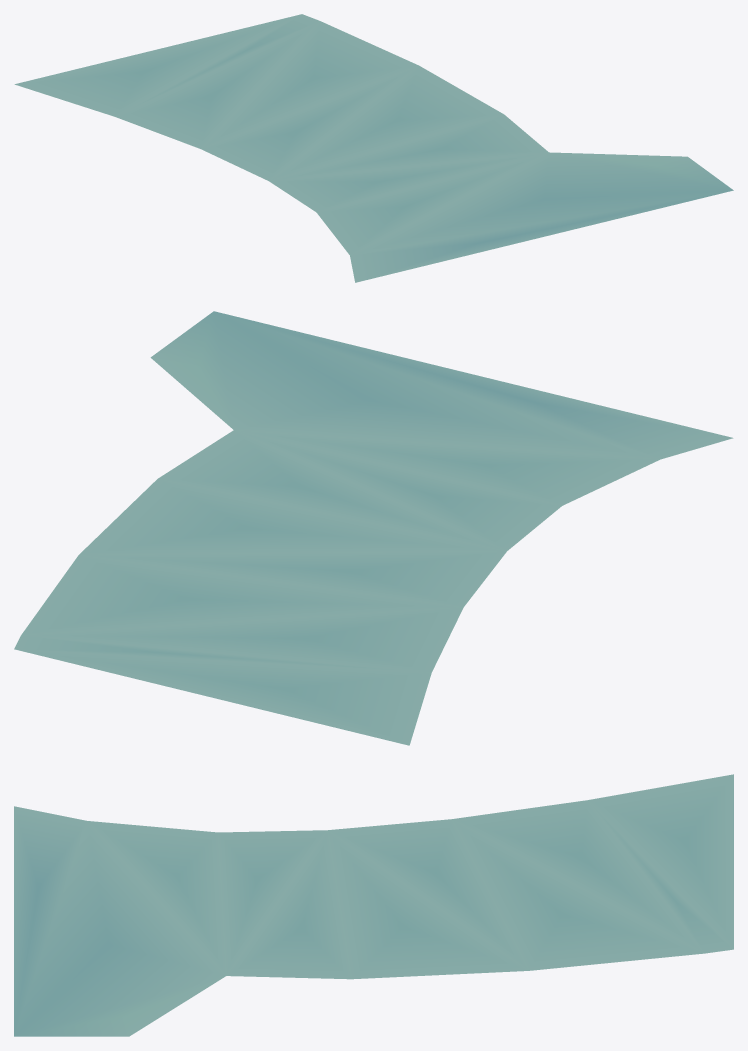
The model's file is water-14-7.glb.
3 views of the same model, one above another, from view 1: azimuth 30°, elevation 25°; view 2: azimuth 150°, elevation 25°; view 3: azimuth 270°, elevation 25° (orthographic). The views are drawn at different scales.
Size of the model in its own units: 13.8 by 0 by 16.
